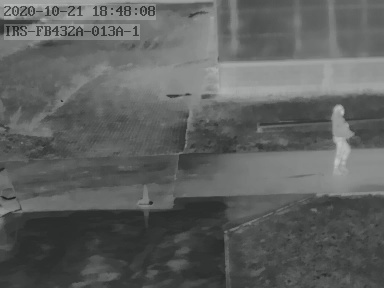person: (331, 103, 354, 173)
